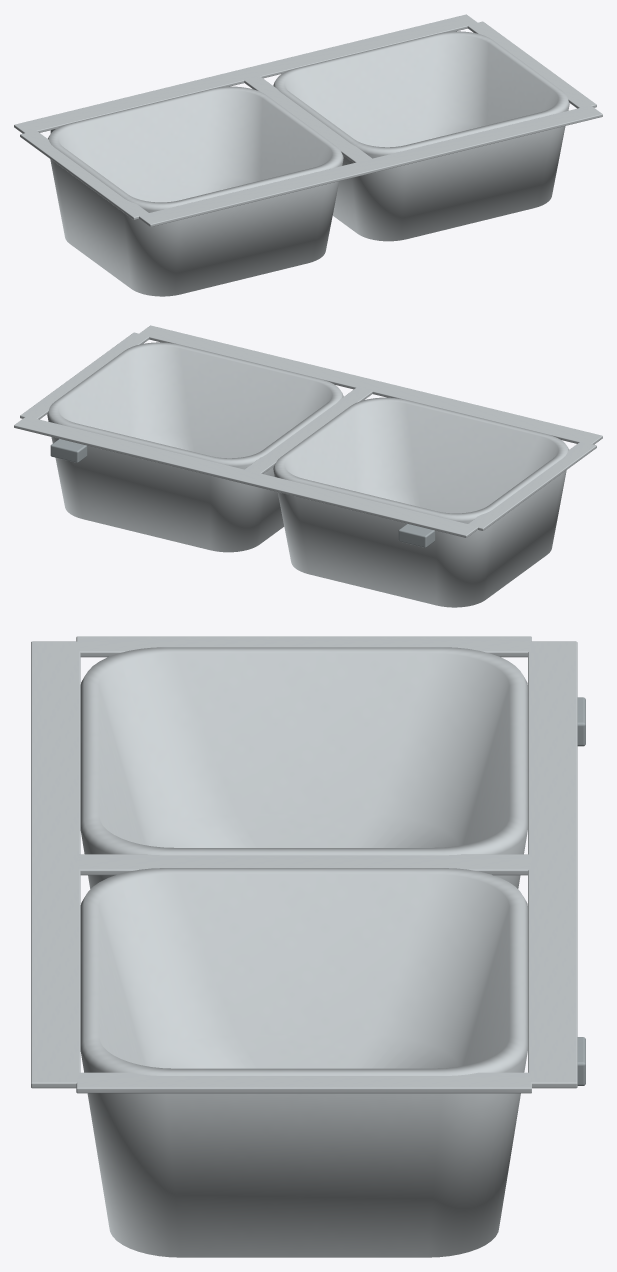
Rendered from undermount-double-sink.glb.
3 views of the same model, one above another, from view 1: azimuth 30°, elevation 25°; view 2: azimuth 150°, elevation 25°; view 3: azimuth 270°, elevation 25° (orthographic). The views are drawn at different scales.
Parts seen in each view (by area): view 1: Sink | deep steel basin, Sink | deep steel basin.001, Sink | mounting flange, Sink | mounting flange.001, Sink | divider flange, Sink | divider flange.001, Sink | divider flange.002; view 2: Sink | deep steel basin, Sink | deep steel basin.001, Sink | mounting flange.001, Sink | mounting flange, Sink | divider flange, Sink | divider flange.001, Sink | divider flange.002, Sink | underside fixing lug, Sink | underside fixing lug.001; view 3: Sink | deep steel basin.001, Sink | deep steel basin, Sink | mounting flange.001, Sink | mounting flange, Sink | divider flange.002, Sink | divider flange.001, Sink | divider flange.
Boxes of the visible parts, left/top/right/bottom form: Sink | deep steel basin: left=48, top=86, right=343, bottom=296; Sink | deep steel basin.001: left=273, top=31, right=569, bottom=241; Sink | mounting flange: left=139, top=105, right=602, bottom=226; Sink | mounting flange.001: left=14, top=14, right=477, bottom=133; Sink | divider flange: left=20, top=131, right=148, bottom=219; Sink | divider flange.001: left=244, top=76, right=372, bottom=162; Sink | divider flange.002: left=467, top=21, right=596, bottom=108; Sink | deep steel basin: left=273, top=397, right=568, bottom=607; Sink | deep steel basin.001: left=47, top=342, right=343, bottom=552; Sink | mounting flange.001: left=14, top=416, right=477, bottom=537; Sink | mounting flange: left=139, top=325, right=602, bottom=444; Sink | divider flange: left=468, top=442, right=596, bottom=530; Sink | divider flange.001: left=244, top=387, right=372, bottom=473; Sink | divider flange.002: left=20, top=332, right=149, bottom=419; Sink | underside fixing lug: left=398, top=524, right=435, bottom=547; Sink | underside fixing lug.001: left=50, top=439, right=87, bottom=462; Sink | deep steel basin.001: left=80, top=868, right=527, bottom=1257; Sink | deep steel basin: left=80, top=647, right=527, bottom=888; Sink | mounting flange.001: left=528, top=641, right=577, bottom=1088; Sink | mounting flange: left=31, top=641, right=80, bottom=1088; Sink | divider flange.002: left=76, top=1072, right=531, bottom=1093; Sink | divider flange.001: left=77, top=854, right=530, bottom=875; Sink | divider flange: left=76, top=636, right=531, bottom=657.
Size of the model in its own units: 1.01 by 0.215 by 0.525.
2 materials, 2 textured.
